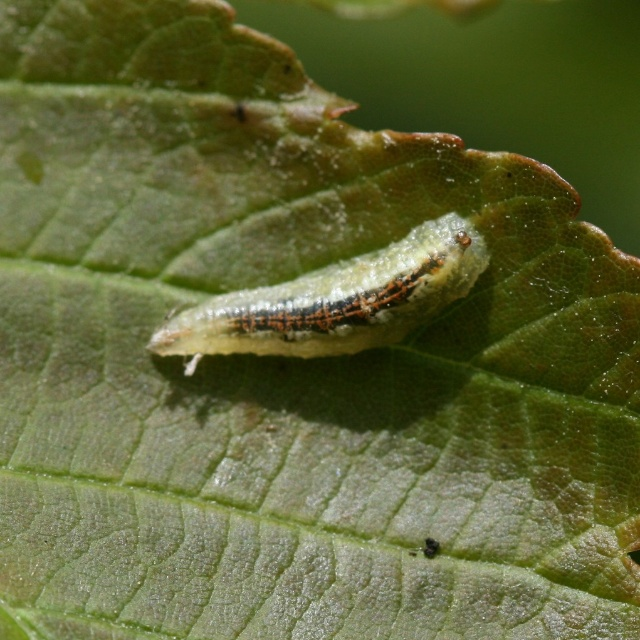Caterpillar: (145, 212, 492, 376)
